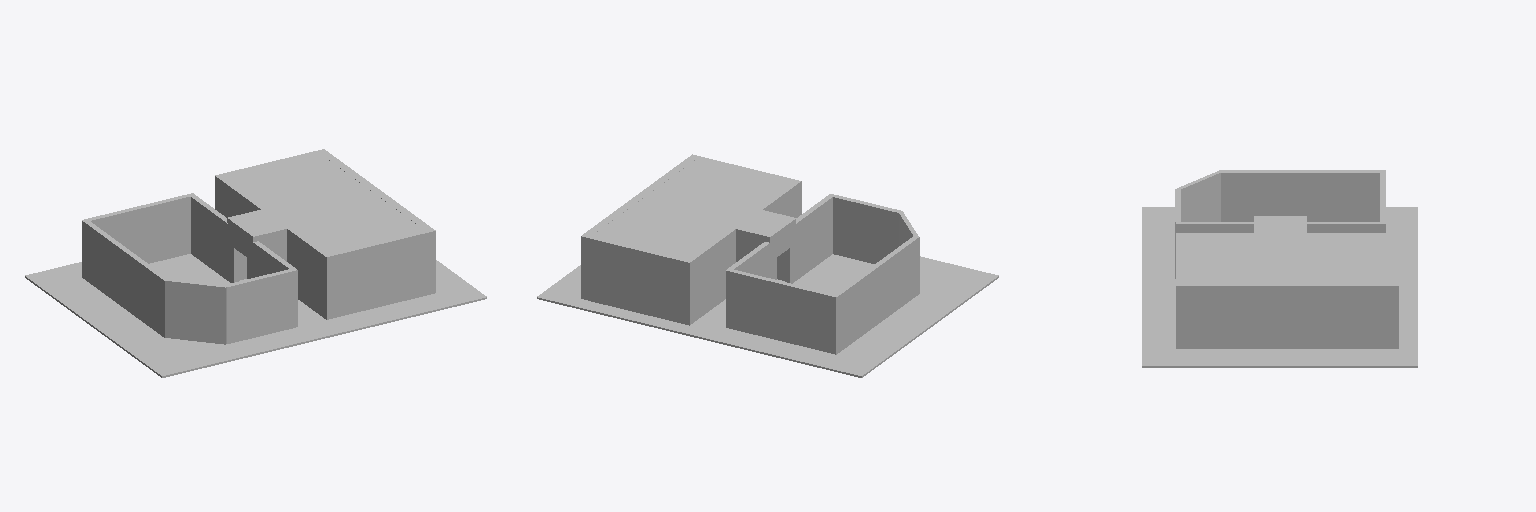
File: Room.obj
3 views of the same model, side by side, from view 1: azimuth 30°, elevation 25°; view 2: azimuth 150°, elevation 25°; view 3: azimuth 270°, elevation 25° (orthographic).
Visible parts, largest first — view 1: Cube.004, Cube.005, Cube, Cube.002, Cube.003, Cube.001; view 2: Cube.004, Cube.005, Cube.002, Cube, Cube.003; view 3: Cube.004, Cube.005, Cube, Cube.001.
Boxes of the visible parts, x1,y1,x2,y2 form: Cube.004: [188, 149, 435, 327]; Cube.005: [25, 254, 486, 377]; Cube: [83, 221, 167, 337]; Cube.002: [82, 193, 194, 277]; Cube.003: [225, 269, 292, 343]; Cube.001: [164, 279, 226, 344]; Cube.004: [581, 154, 833, 325]; Cube.005: [537, 254, 998, 377]; Cube.002: [726, 269, 838, 354]; Cube: [835, 236, 919, 352]; Cube.003: [833, 195, 900, 263]; Cube.004: [1176, 216, 1398, 348]; Cube.005: [1142, 207, 1417, 367]; Cube: [1220, 170, 1382, 221]; Cube.001: [1176, 170, 1223, 221].
Bounding box in the file's own units: 36.74 × 6.96 × 26.95.